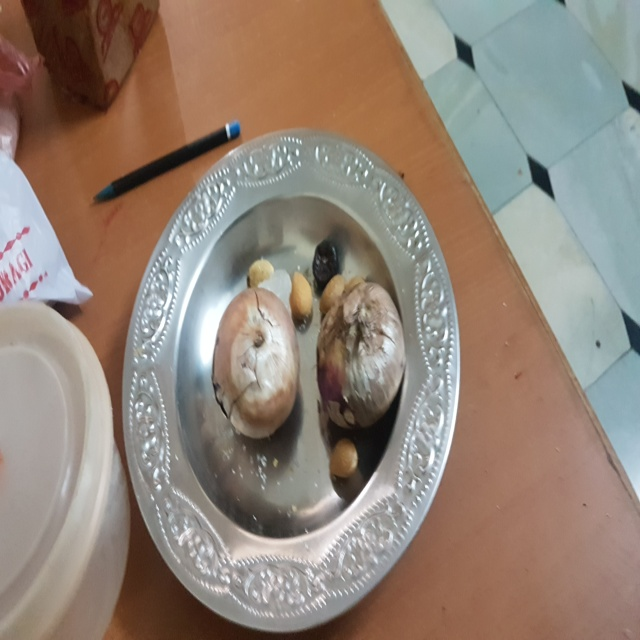onion: (209, 283, 306, 438), (316, 278, 413, 420)
